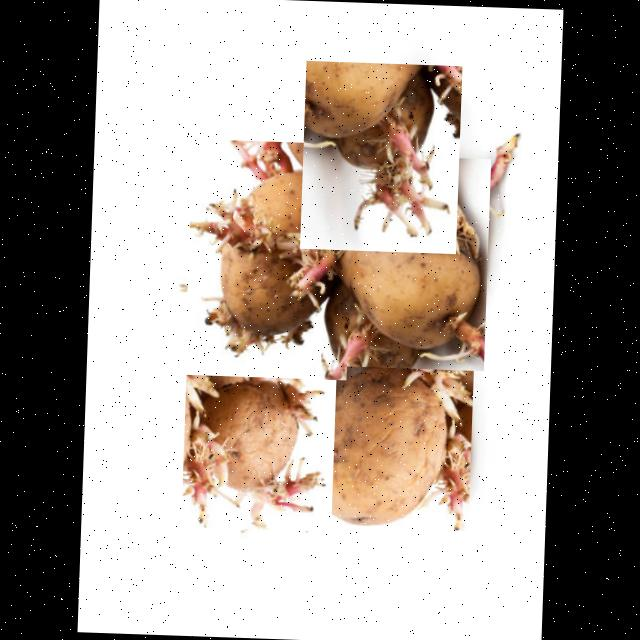Sprouted potato: (292, 151, 490, 370), (184, 137, 354, 379), (300, 326, 475, 530), (300, 59, 462, 252), (180, 362, 336, 530)
